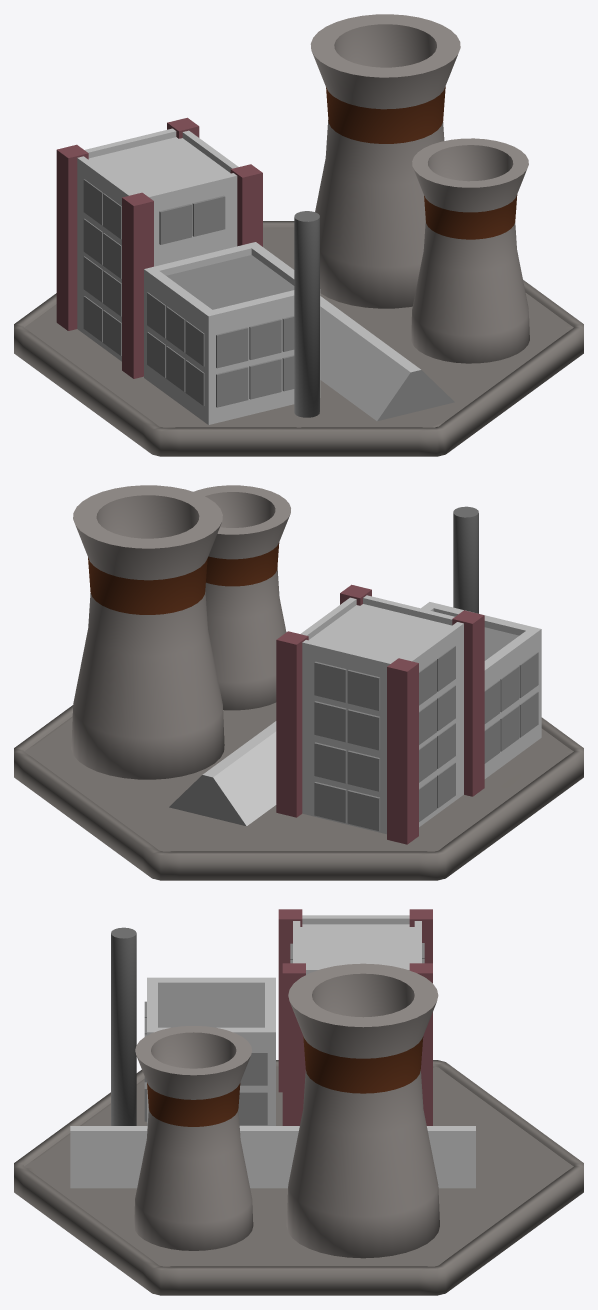
Rendered from Power_Plant_Tile.fbx.
The picture shows the model from 3 angles, top to bottom: view 1: azimuth 30°, elevation 25°; view 2: azimuth 150°, elevation 25°; view 3: azimuth 270°, elevation 25°; orthographic projection.
Visible parts, largest first — view 1: Cube.048, Cylinder.003; view 2: Cube.048, Cylinder.003; view 3: Cube.048, Cylinder.003.
Part boxes in pixels (box(x1,y1,x2,y2)): Cube.048: box(24, 14, 573, 427); Cylinder.003: box(14, 221, 583, 456); Cube.048: box(24, 485, 573, 851); Cylinder.003: box(14, 705, 583, 880); Cube.048: box(24, 909, 573, 1266); Cylinder.003: box(14, 1060, 583, 1295).
Size of the model in its own units: 100 by 56.76 by 114.
